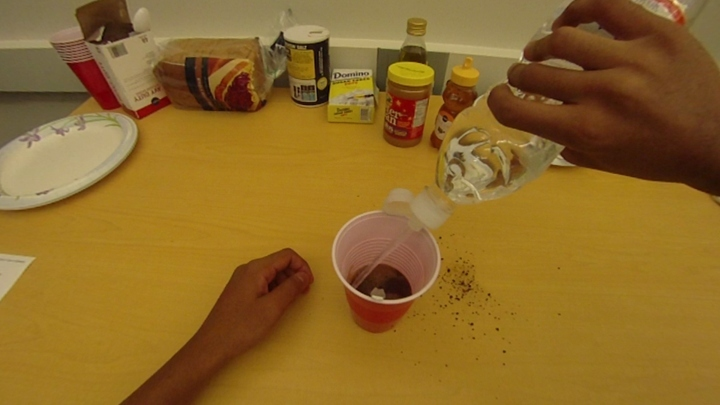hand: (485, 1, 720, 199), (215, 246, 315, 355)
